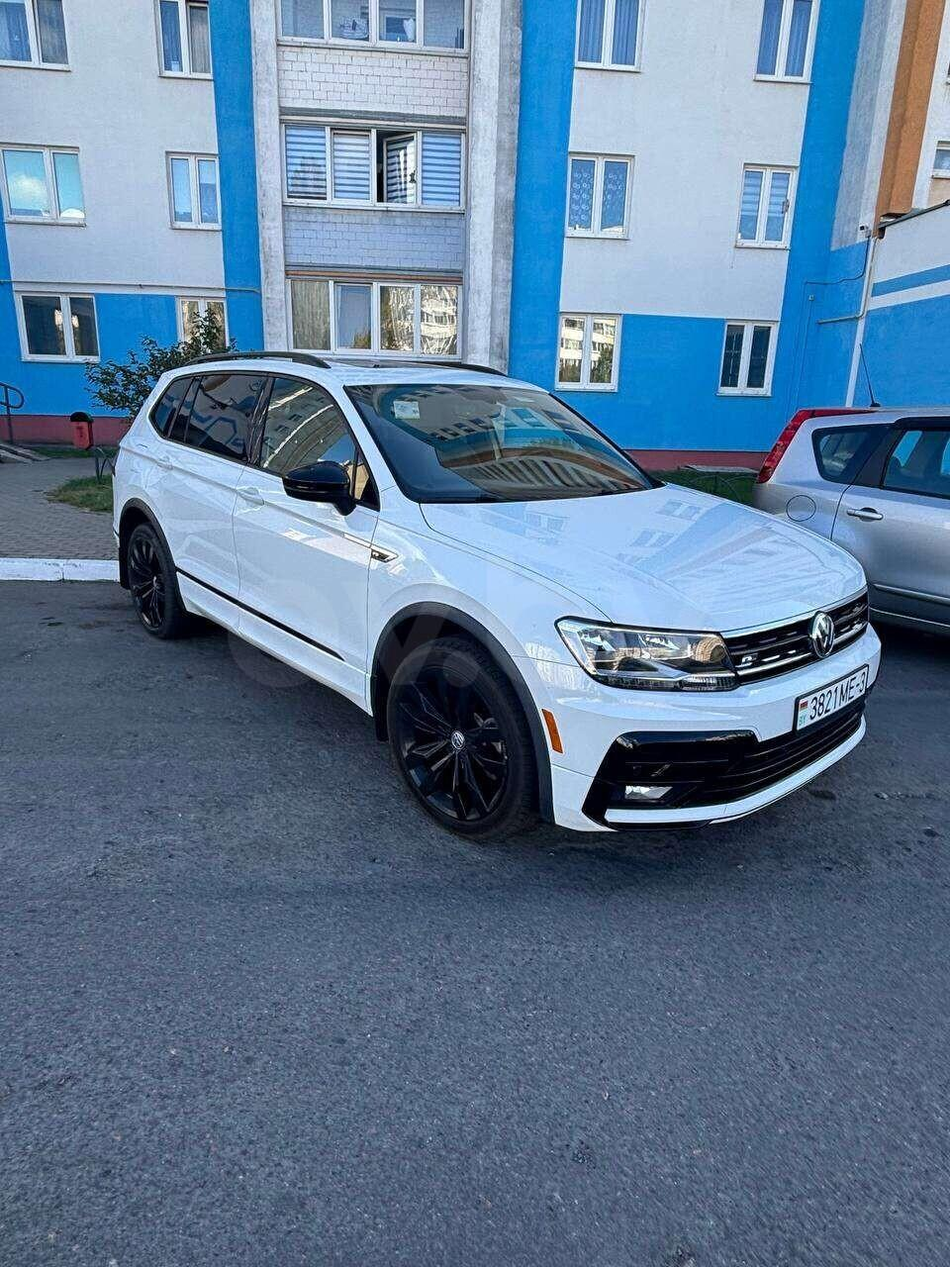Tiguan_2016-2021: (107, 350, 886, 856)
